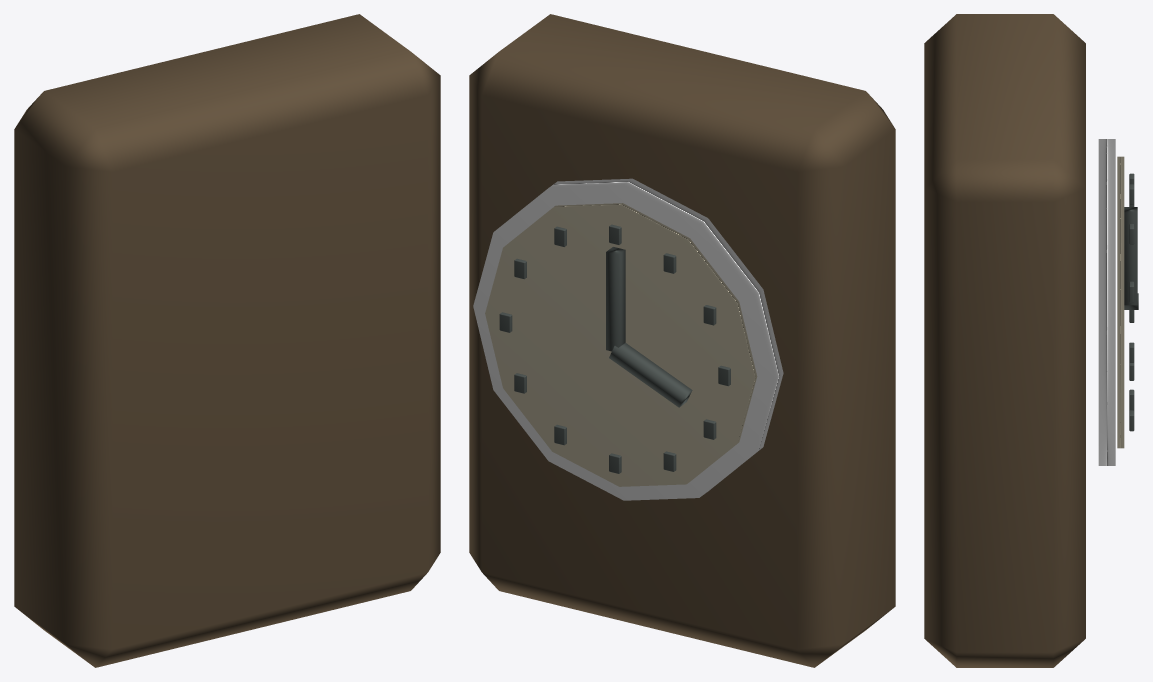
Rendered from AntiqueClock62.fbx.
The picture shows the model from 3 angles, left to right: view 1: azimuth 30°, elevation 25°; view 2: azimuth 150°, elevation 25°; view 3: azimuth 270°, elevation 25°; orthographic projection. The views are drawn at different scales.
Visible parts, largest first — view 1: AntiqueClock62; view 2: AntiqueClock62; view 3: AntiqueClock62.
Boxes of the visible parts, x1,y1,x2,y2 form: AntiqueClock62: [14, 14, 440, 667]; AntiqueClock62: [469, 14, 895, 667]; AntiqueClock62: [924, 14, 1138, 667].
Bounding box in the file's own units: 48 × 66 × 25.2.
